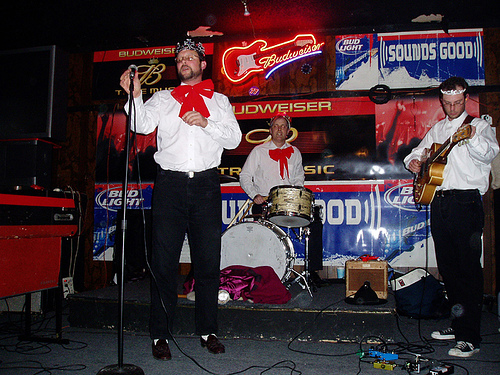without_mask: (439, 83, 470, 121), (173, 48, 207, 82), (268, 115, 290, 144)
